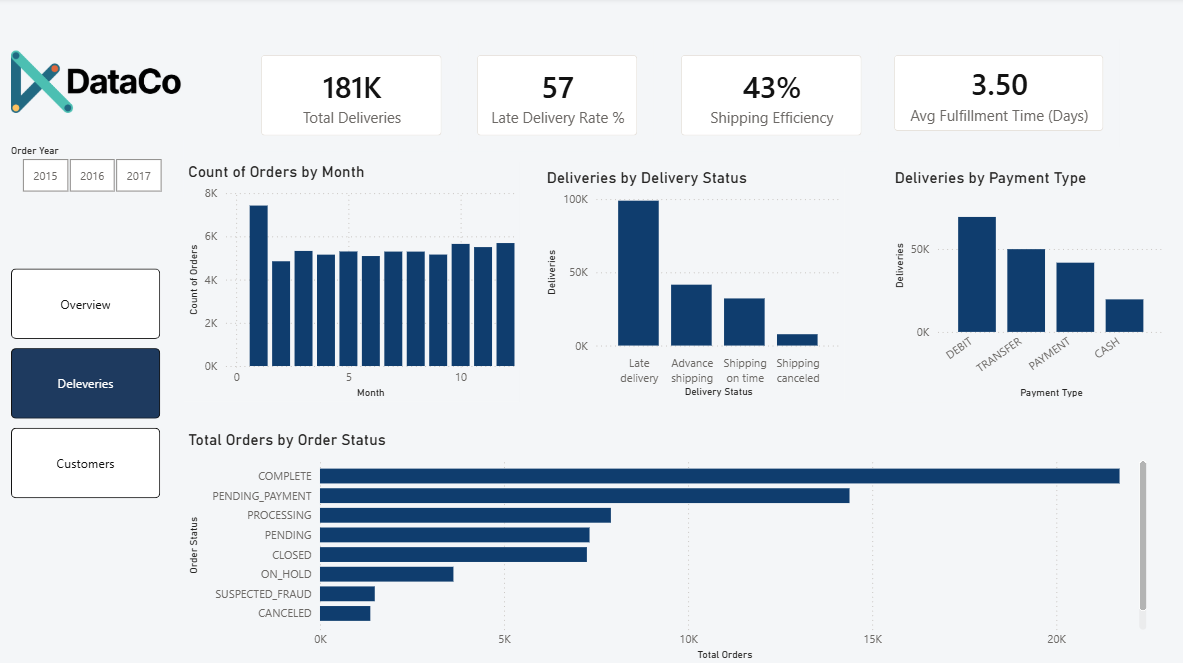

What the dashboard file says about the page in this screenshot:
{"tool":"powerbi","page":{"name":"Deleveries","canvas":[1280,720],"ordinal":1},"visuals":[{"type":"image","box":[13,29.1,186.2,124.7],"z":1000},{"type":"cardVisual","fields":{"Data":["Dataset.Avg Fulfillment Days"]},"box":[948.9,45.3,260.7,116.6],"z":2000},{"type":"cardVisual","fields":{"Data":["Dataset.Total Deliveries"]},"box":[265.6,45.3,229.9,121.4],"z":3000},{"type":"cardVisual","fields":{"Data":["Dataset.Late Delivery Rate %"]},"box":[498.7,45.3,207.3,121.4],"z":4000},{"type":"clusteredColumnChart","fields":{"Category":["Dataset.Order Month"],"Y":["Dataset.Count of Orders"]},"box":[198.4,177.6,362.8,258.9],"z":5000},{"type":"clusteredColumnChart","fields":{"Category":["Dataset.Delivery Status"],"Y":["Dataset.Total Deliveries"]},"box":[585.8,185.2,326.9,251.3],"z":7000},{"type":"barChart","fields":{"Category":["Dataset.Order Status"],"Y":["Dataset.Total Orders"]},"box":[199.2,468,1044.4,252.6],"z":8000},{"type":"cardVisual","fields":{"Data":["Dataset.Shipping Efficiency Score"]},"box":[718.9,45.3,229.9,121.4],"z":9000},{"type":"columnChart","fields":{"Category":["Dataset.Type"],"Y":["Dataset.Total Deliveries"]},"box":[961.8,184.6,301.2,252.6],"z":10000},{"type":"slicer","fields":{"Values":["Dataset.Order Year"]},"box":[0,153.8,199.2,63.1],"z":11001},{"type":"pageNavigator","box":[13,293.1,161.9,249.4],"z":11002}]}

Visuals, with their boxes in screenshot pixels (x1, y1, x2, y2), scaled from the page's 1280x720 canvas onto the 1183x663 screenshot:
image: (12, 27, 184, 142)
cardVisual - Dataset.Avg Fulfillment Days: (877, 42, 1118, 149)
cardVisual - Dataset.Total Deliveries: (245, 42, 458, 154)
cardVisual - Dataset.Late Delivery Rate %: (461, 42, 652, 154)
clusteredColumnChart - Dataset.Order Month x Dataset.Count of Orders: (183, 164, 519, 402)
clusteredColumnChart - Dataset.Delivery Status x Dataset.Total Deliveries: (541, 171, 844, 402)
barChart - Dataset.Order Status x Dataset.Total Orders: (184, 431, 1149, 662)
cardVisual - Dataset.Shipping Efficiency Score: (664, 42, 877, 154)
columnChart - Dataset.Type x Dataset.Total Deliveries: (889, 170, 1167, 403)
slicer - Dataset.Order Year: (0, 142, 184, 200)
pageNavigator: (12, 270, 162, 500)
